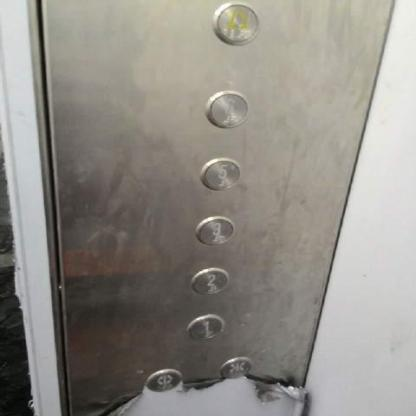1: (183, 312, 226, 341)
2: (188, 266, 231, 297)
3: (192, 213, 236, 247)
5: (196, 155, 242, 192)
6: (202, 89, 250, 129)
alarm: (209, 1, 262, 48)
close: (218, 355, 252, 379)
open: (143, 367, 184, 393)
